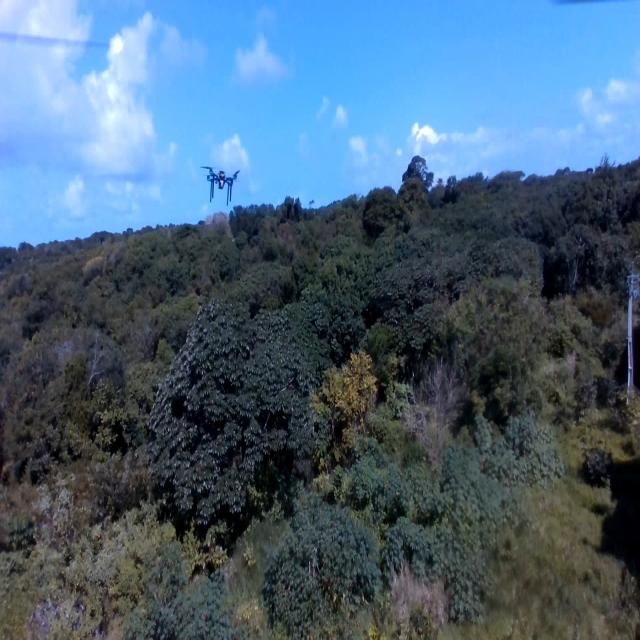-uav-: (202, 150, 248, 220)
